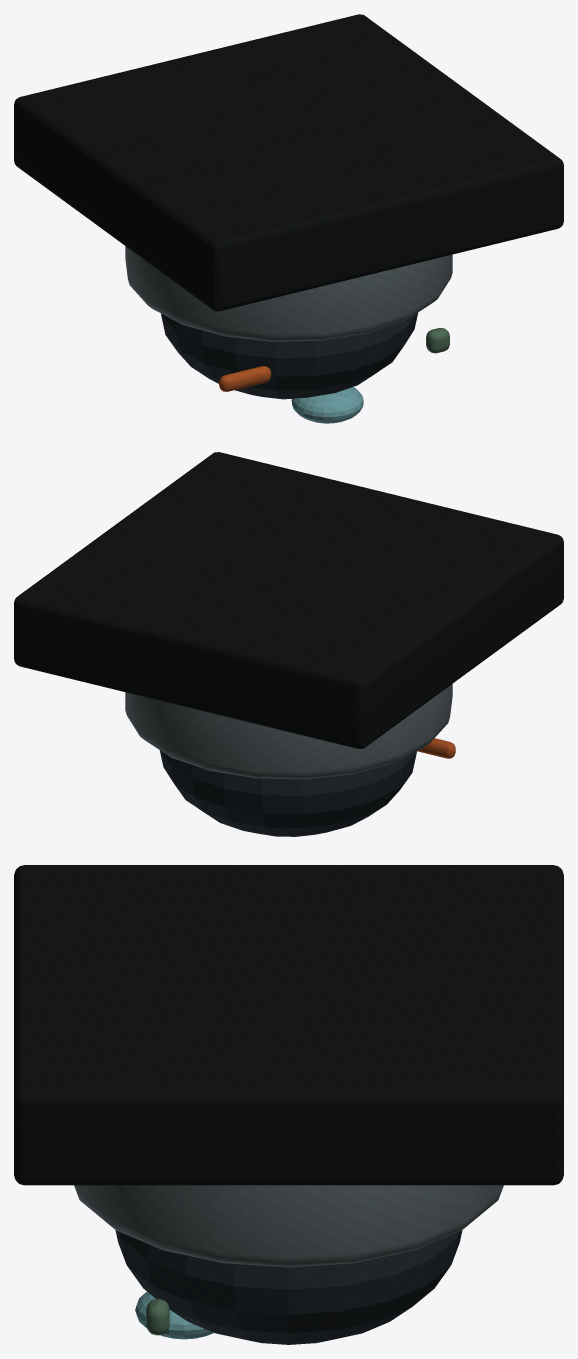
The model's file is CeilingSensor.fbx.
The picture shows the model from 3 angles, top to bottom: view 1: azimuth 30°, elevation 25°; view 2: azimuth 150°, elevation 25°; view 3: azimuth 270°, elevation 25°; orthographic projection. The views are drawn at different scales.
Visible parts, largest first — view 1: CeilingSensor_Mesh; view 2: CeilingSensor_Mesh; view 3: CeilingSensor_Mesh.
Boxes of the visible parts, bbox=[...] form: CeilingSensor_Mesh: bbox=[14, 14, 563, 423]; CeilingSensor_Mesh: bbox=[14, 452, 563, 836]; CeilingSensor_Mesh: bbox=[14, 865, 563, 1344].
Size of the model in its own units: 42 by 29.75 by 42.
Materials: 6 (6 with a texture image).
